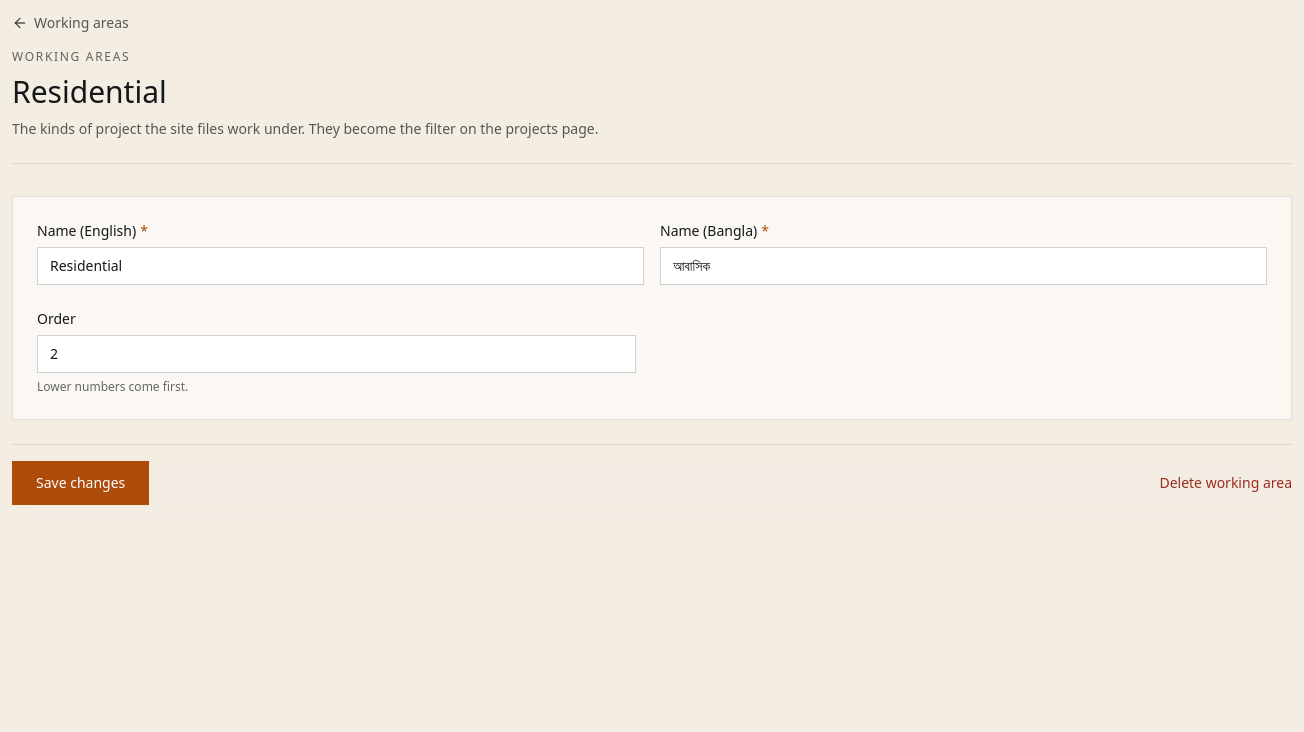
it: ResourceForm › loads a saved row by id and saves changes to it
Replace the text in the field showing "Residential" with "Homes": [340, 266] box [37, 246, 644, 284]
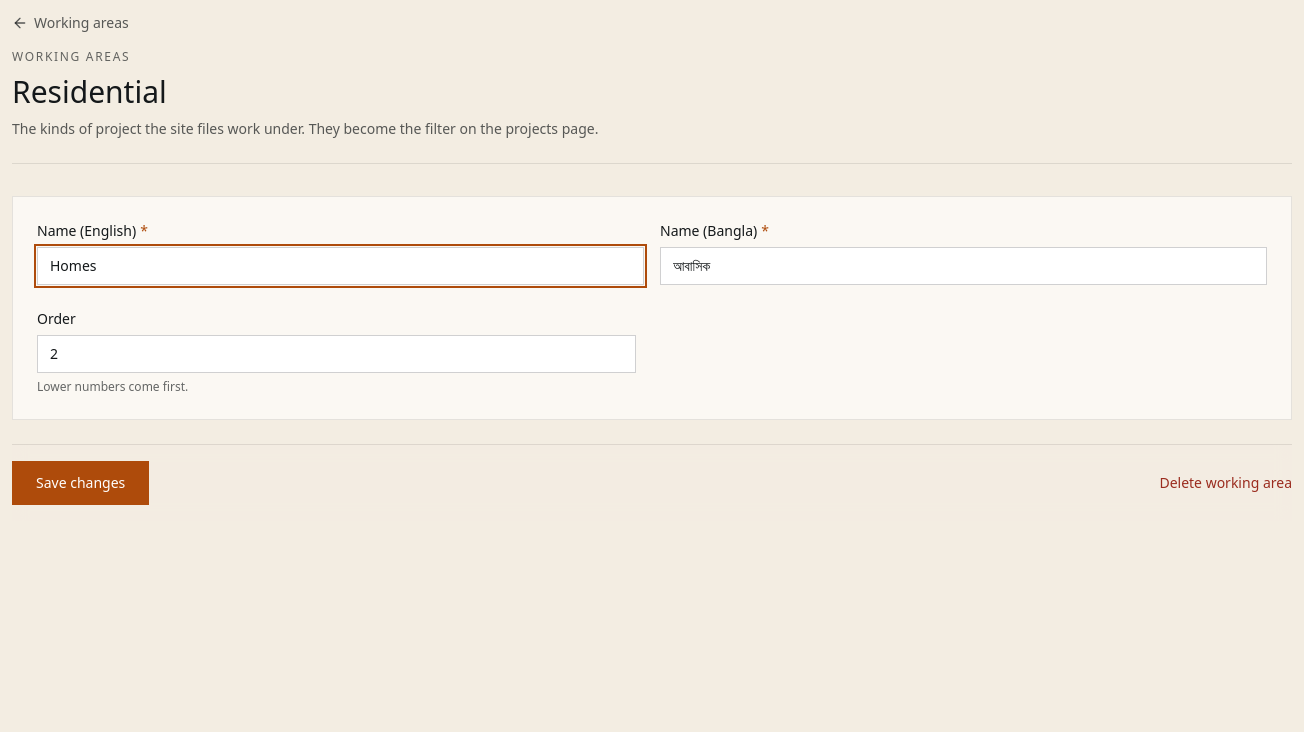
Click the button "Save changes": [81, 482] box [12, 460, 149, 504]
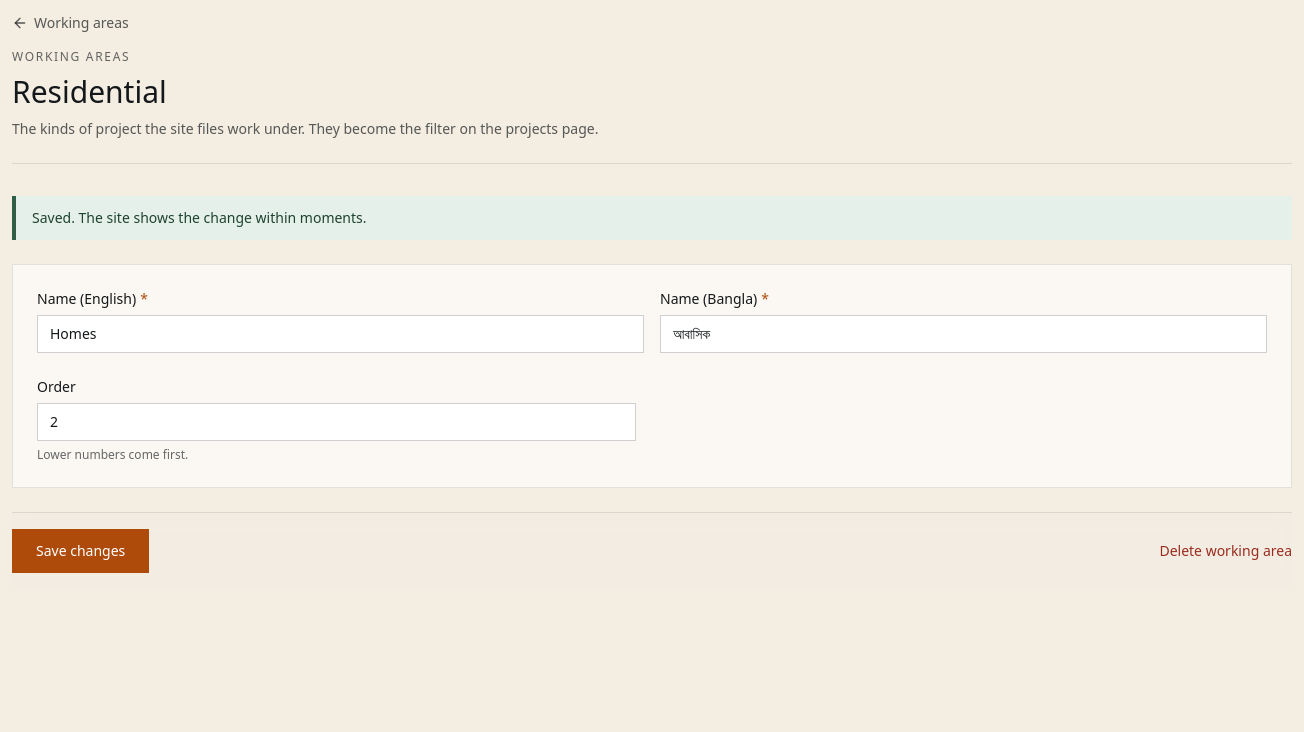
Now the message shows "Saved", box [32, 208, 366, 226]
